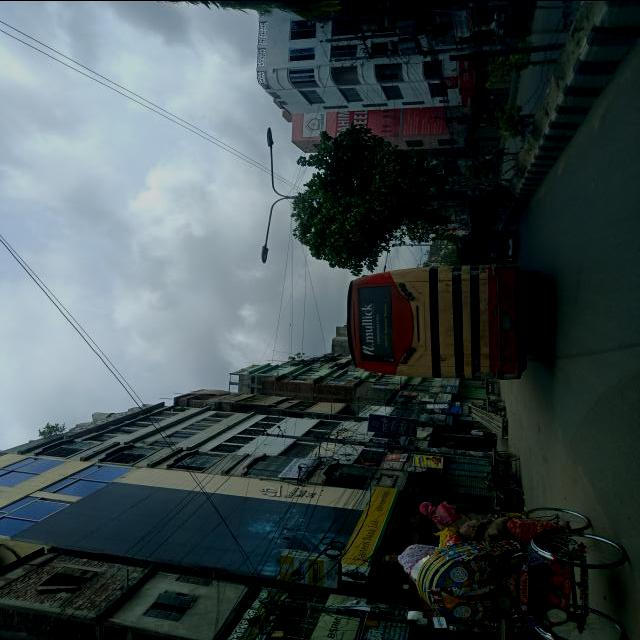bus: (345, 266, 523, 379)
